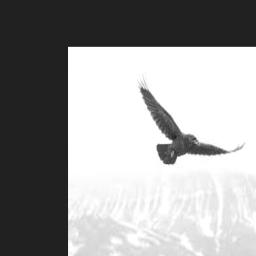Crow: (136, 70, 248, 165)
